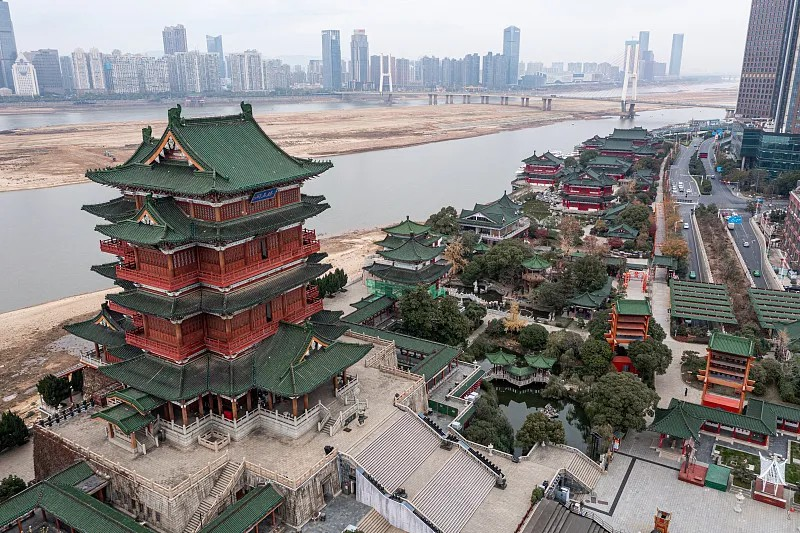Teng: (62, 101, 374, 427)
